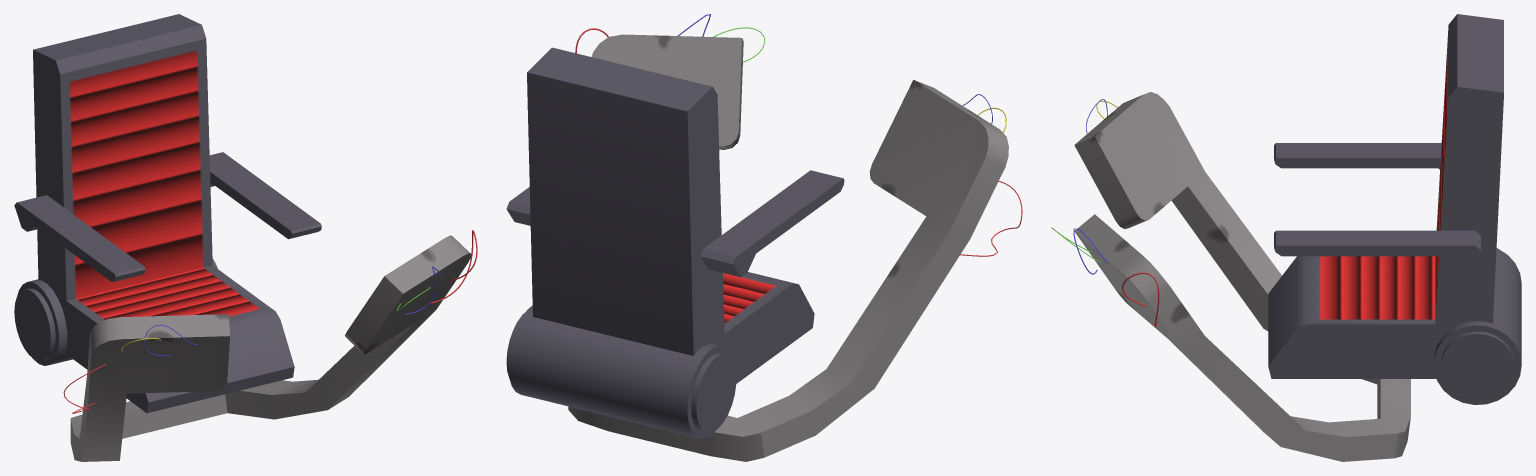
The model's file is Mech_Chair_Mesh.fbx.
3 views of the same model, side by side, from view 1: azimuth 30°, elevation 25°; view 2: azimuth 150°, elevation 25°; view 3: azimuth 270°, elevation 25° (orthographic). The views are drawn at different scales.
Parts seen in each view (by area): view 1: Chair.001; view 2: Chair.001; view 3: Chair.001.
Boxes of the visible parts, x1,y1,x2,y2 form: Chair.001: (14,14,477,461); Chair.001: (506,14,1022,461); Chair.001: (1051,14,1521,461).
Size of the model in its own units: 231 by 195 by 226.
